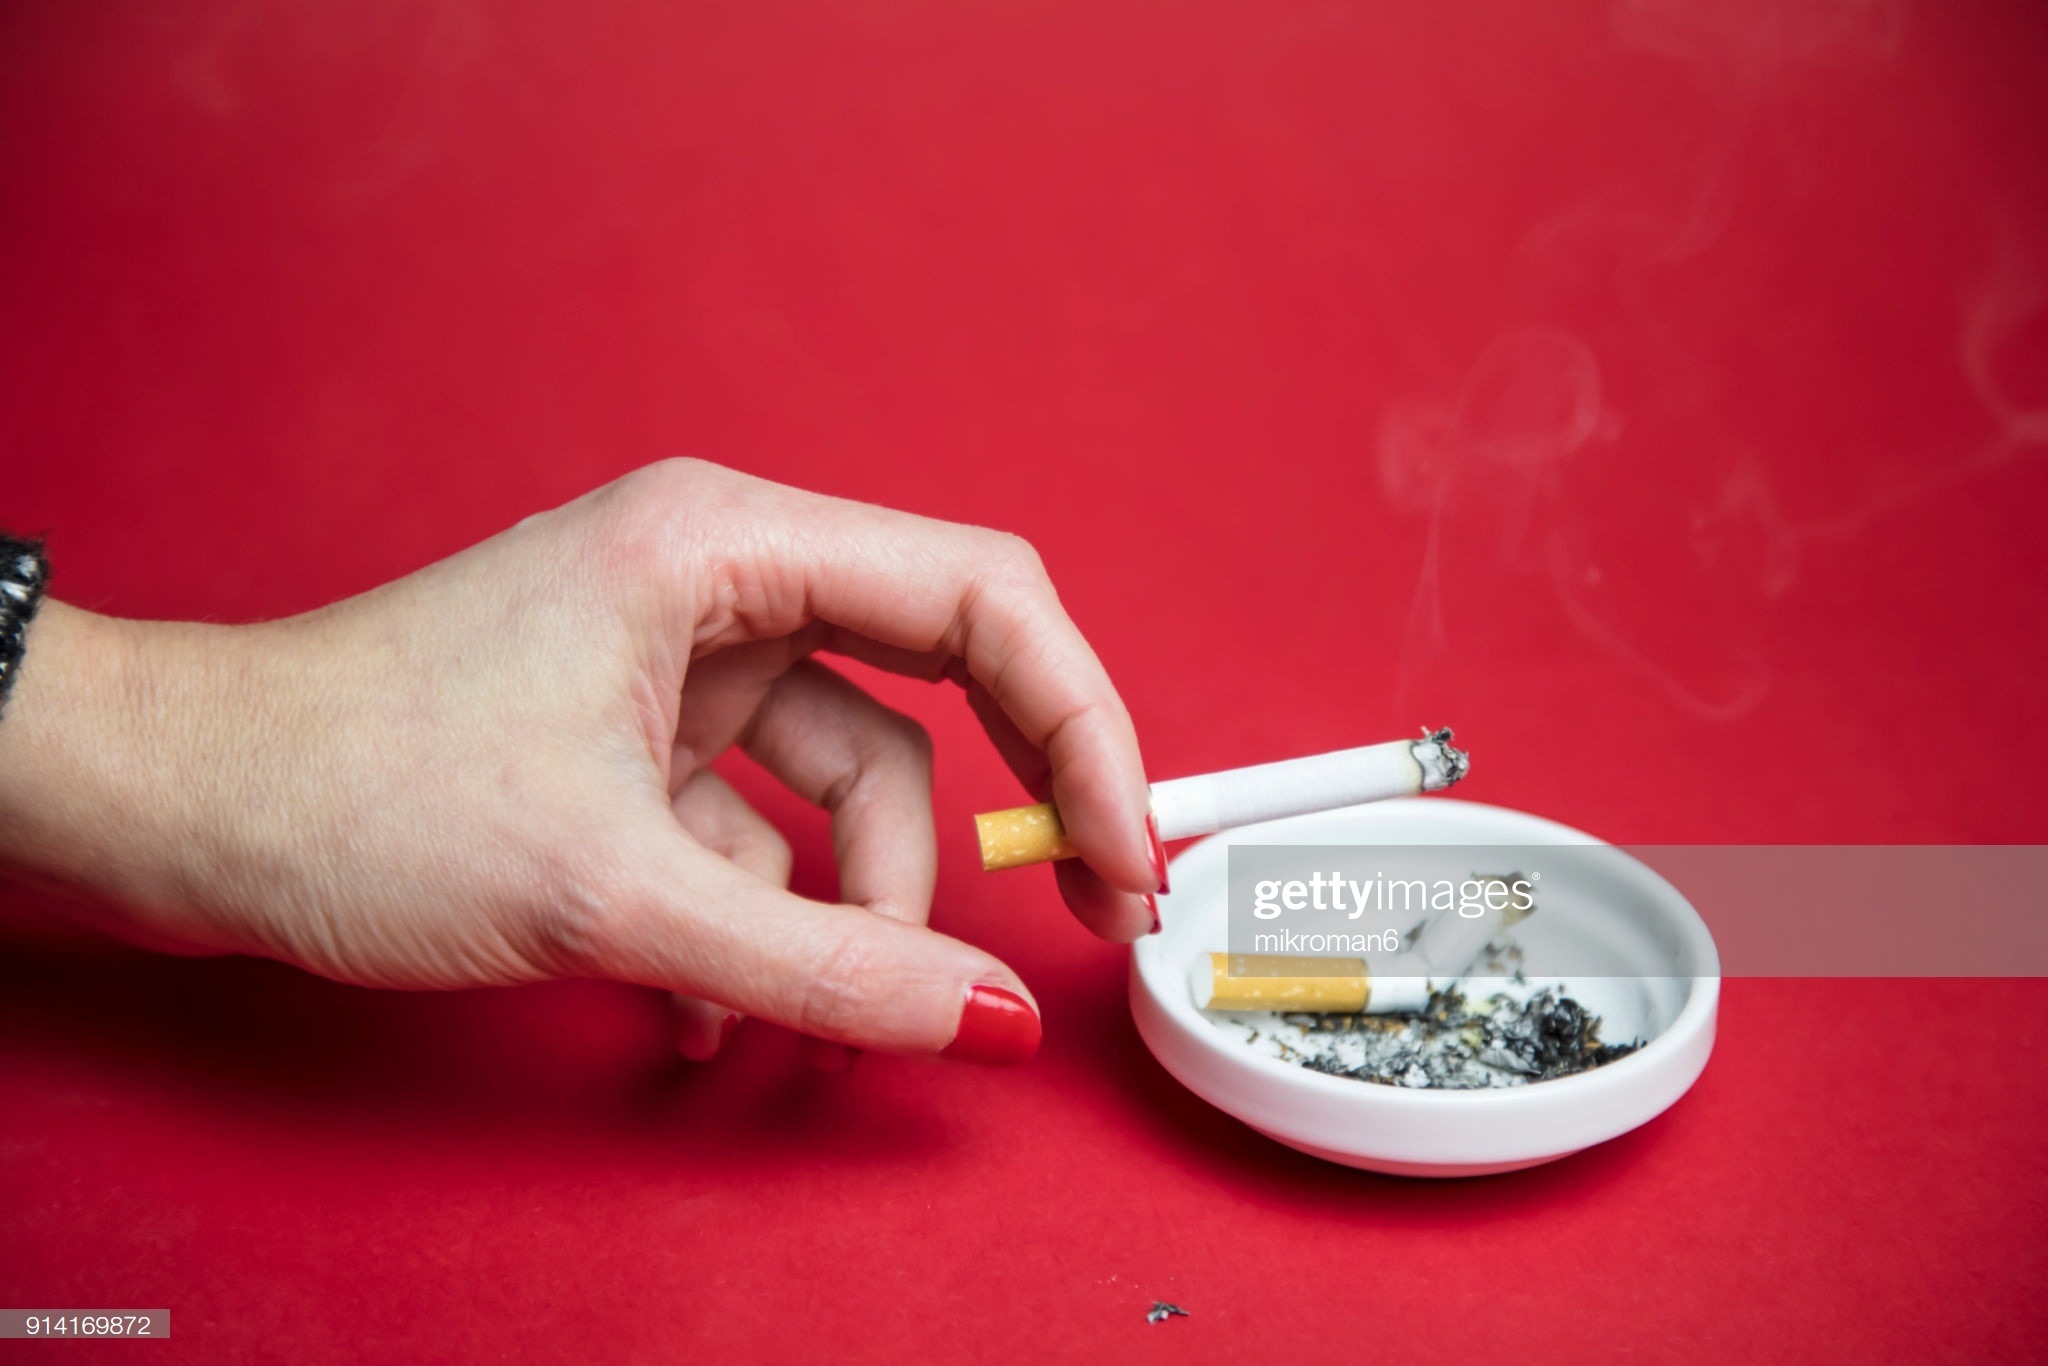sigaretta: (968, 715, 1487, 884)
